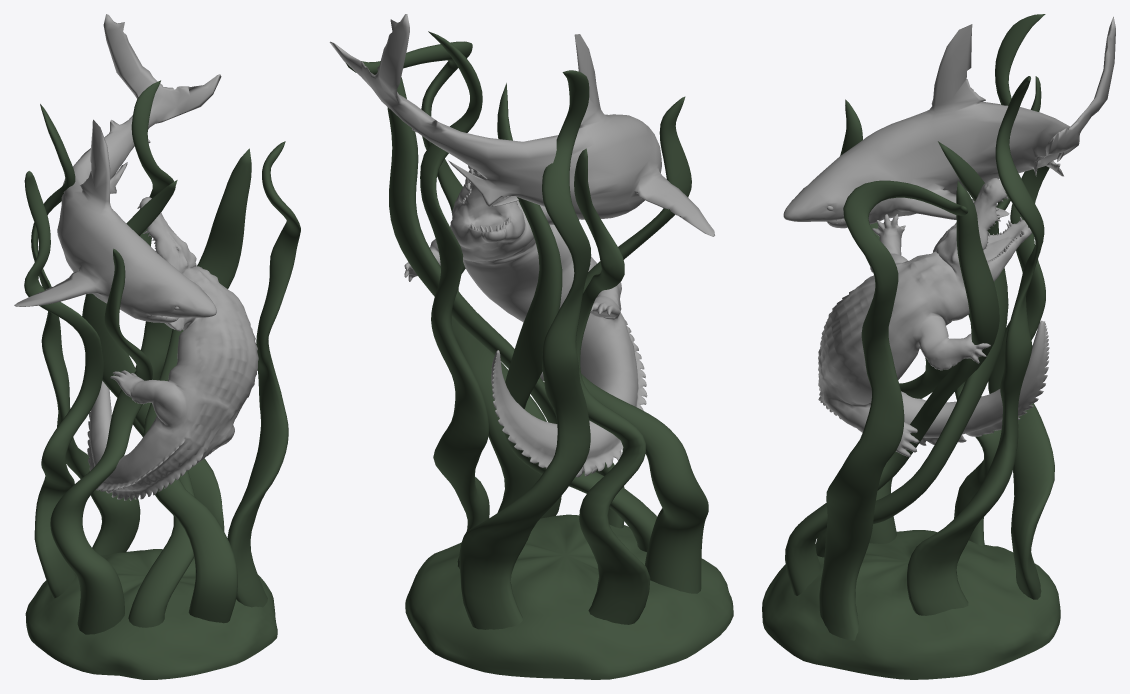
File: animasi.gltf
3 views of the same model, side by side, from view 1: azimuth 30°, elevation 25°; view 2: azimuth 150°, elevation 25°; view 3: azimuth 270°, elevation 25° (orthographic). The views are drawn at different scales.
Visible parts, largest first — view 1: Rumput_Laut; view 2: Rumput_Laut; view 3: Rumput_Laut.
Boxes of the visible parts, left/top/right/bottom form: Rumput_Laut: left=14, top=14, right=300, bottom=679; Rumput_Laut: left=329, top=14, right=733, bottom=679; Rumput_Laut: left=762, top=14, right=1115, bottom=679.
Size of the model in its own units: 14.28 by 25.74 by 13.24.
